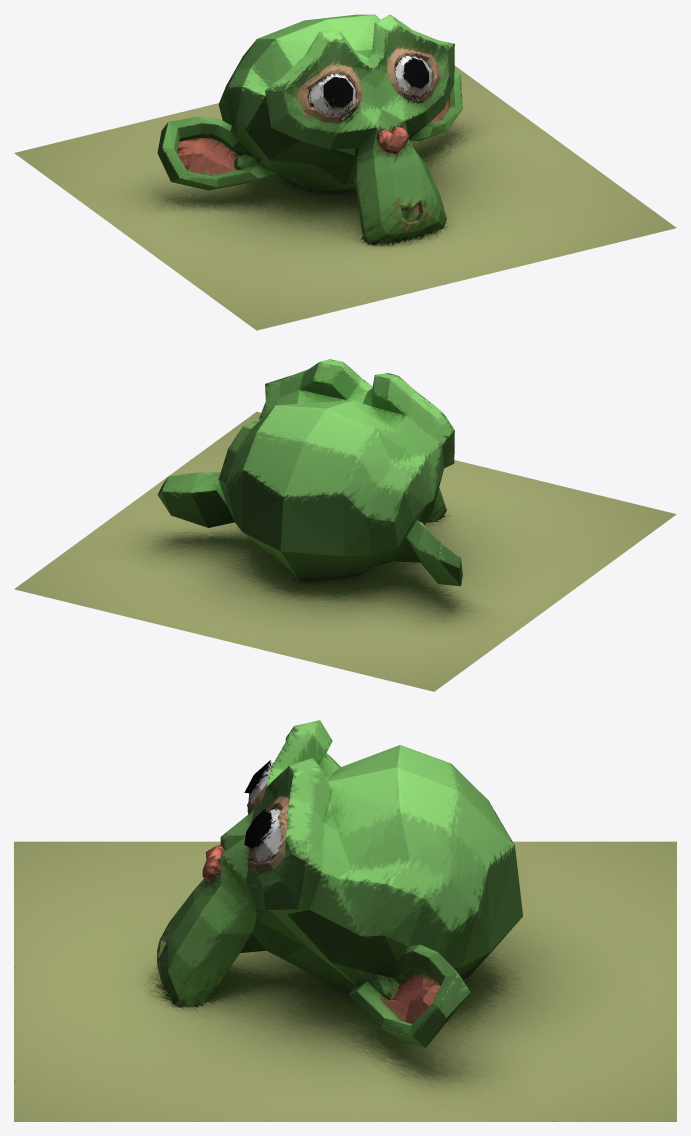
Rendered from SuzBakeDemo.fbx.
3 views of the same model, one above another, from view 1: azimuth 30°, elevation 25°; view 2: azimuth 150°, elevation 25°; view 3: azimuth 270°, elevation 25° (orthographic). The views are drawn at different scales.
Visible parts, largest first — view 1: Plane, Suzanne; view 2: Plane, Suzanne; view 3: Plane, Suzanne.
Part boxes in pixels (x1=…): Plane: x1=14, y1=65, x2=676, y2=330; Suzanne: x1=157, y1=14, x2=462, y2=244; Plane: x1=14, y1=411, x2=676, y2=691; Suzanne: x1=157, y1=359, x2=462, y2=586; Plane: x1=14, y1=841, x2=676, y2=1121; Suzanne: x1=157, y1=720, x2=522, y2=1047.
Bounding box in the file's own units: 601 × 253 × 601.
Materials: 1 (1 with a texture image).
